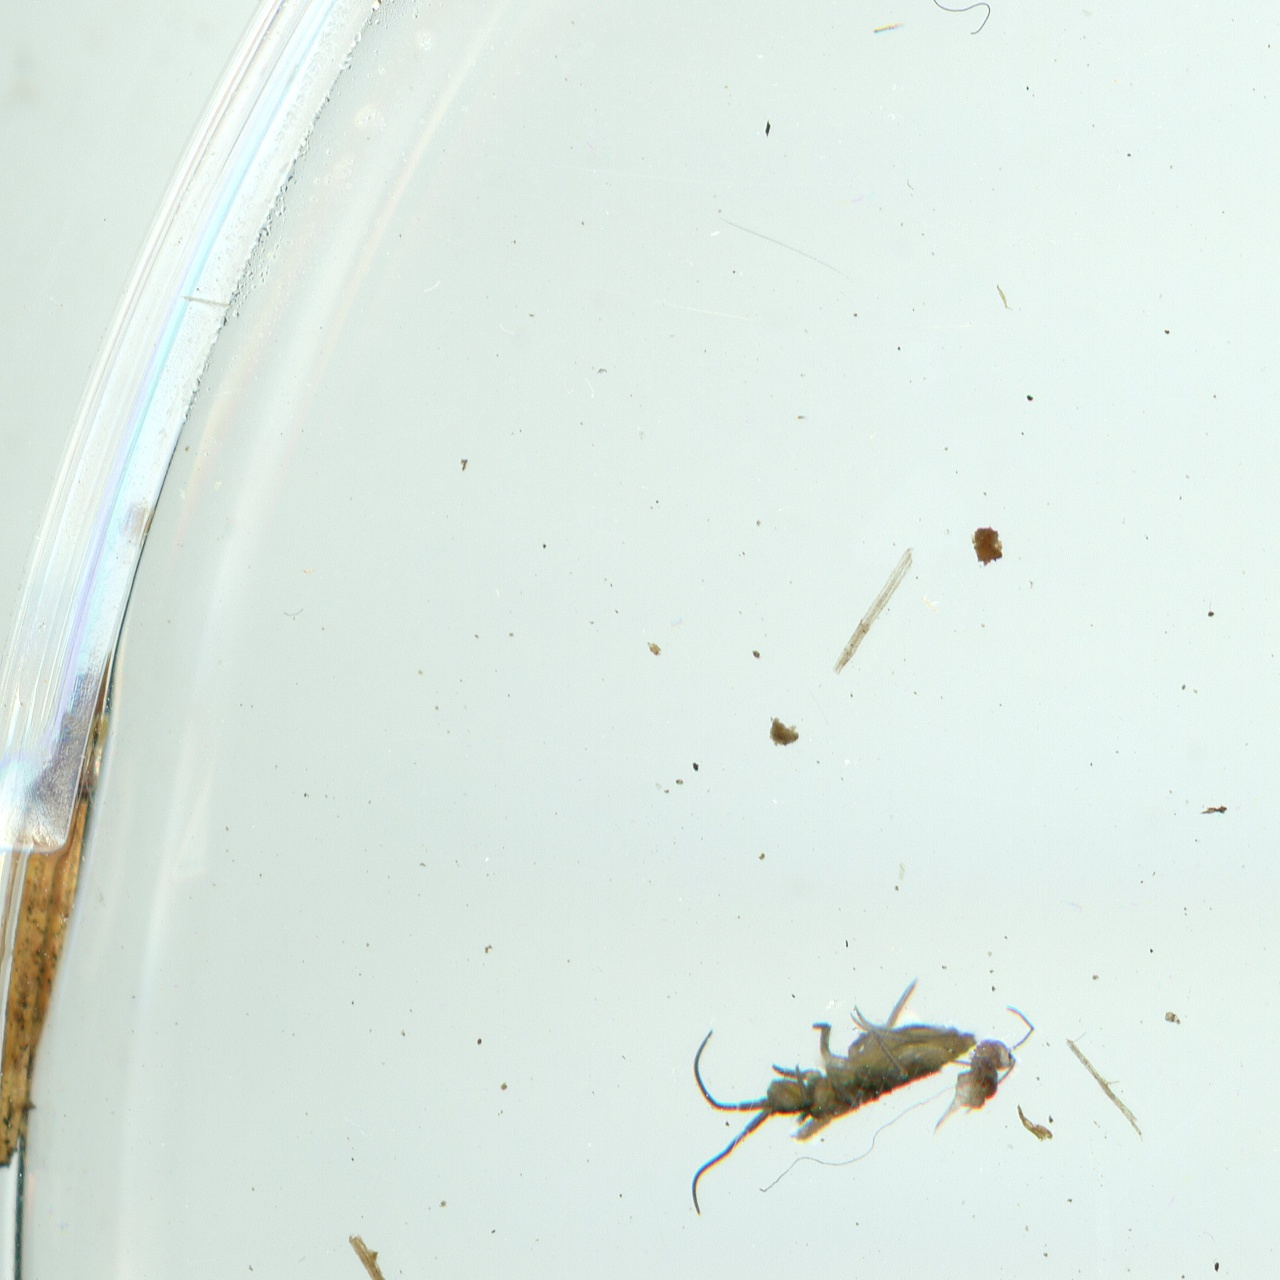arthropod: (624, 924, 1005, 1221), (908, 987, 1047, 1162)
